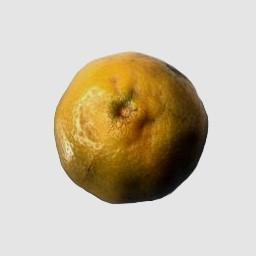Ripe: (56, 55, 207, 205)
